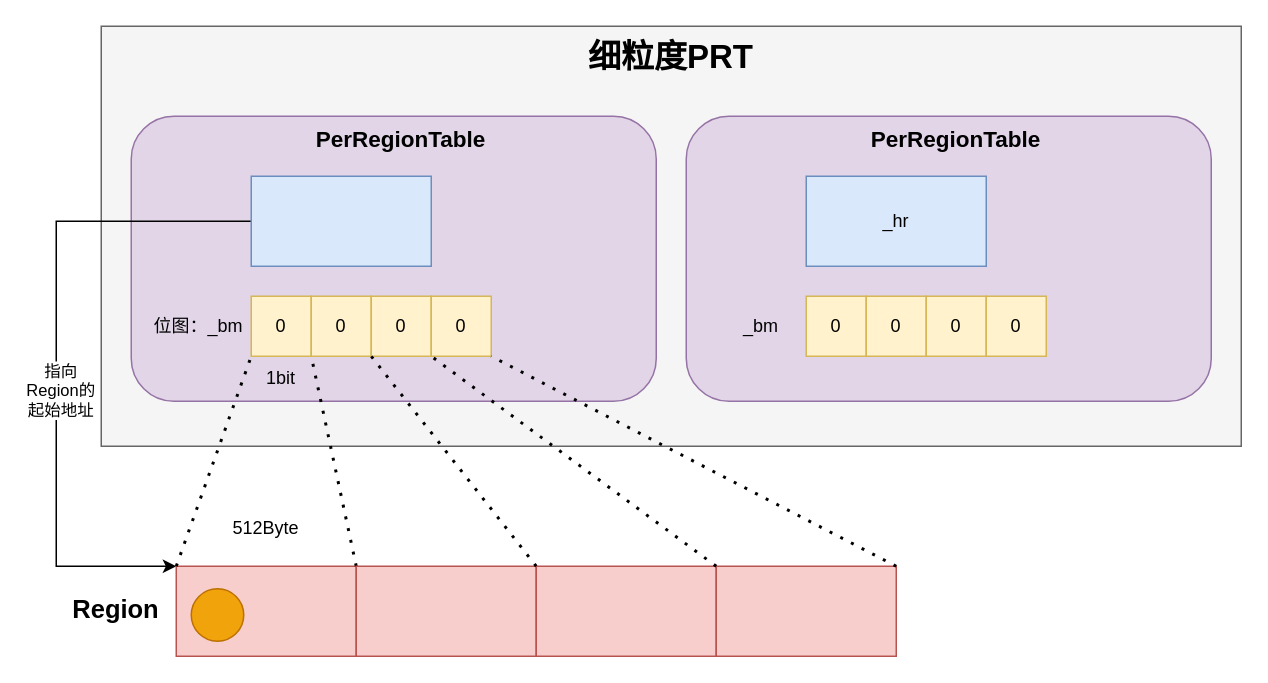
The diagram is 1268 pixels wide and 683 high, and some of its shapes have lost their labels. The shapes that lost their labels are listed below. From the top down, each one's box as (x1, y1, x2, y2) in pixels, then its label:
(250, 175, 431, 266): HeapRegion的起始地址：_hr
(190, 587, 244, 641): obj
